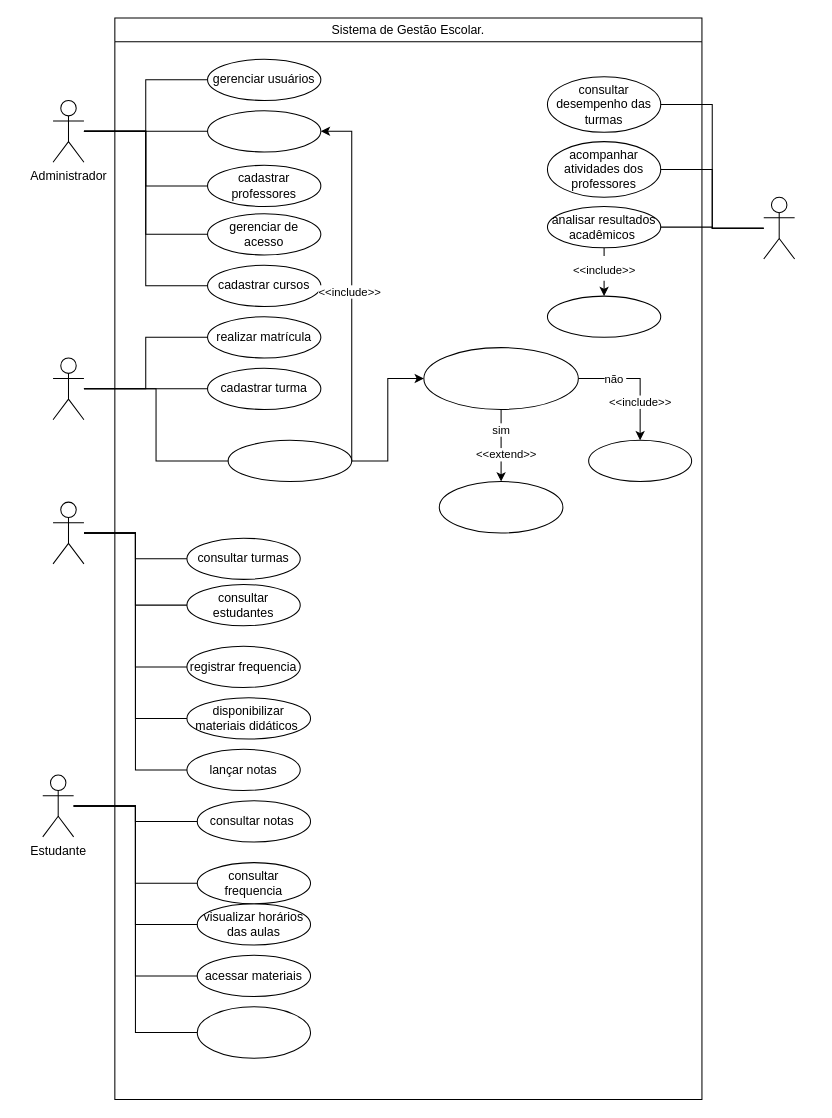
Image size: 832x1118. Some labels were removed from this diagram. The centre of each missing label's shape, as x and y in pixels:
"cadastrar estudantes" belongs at point (264, 131).
"caso existam pendências na documentação" belongs at point (500, 378).
"concluir matrícula" belongs at point (640, 460).
"consultar dados dos estudantes" belongs at point (289, 460).
"consultar informações acadêmicas" belongs at point (253, 1032).
"Coordenador" belongs at point (779, 227).
"emitir relatórios" belongs at point (603, 316).
"podera ser solicitado a regularização" belongs at point (500, 506).
"Professor" belongs at point (68, 532).
"Secretário Escolar" belongs at point (68, 388).
